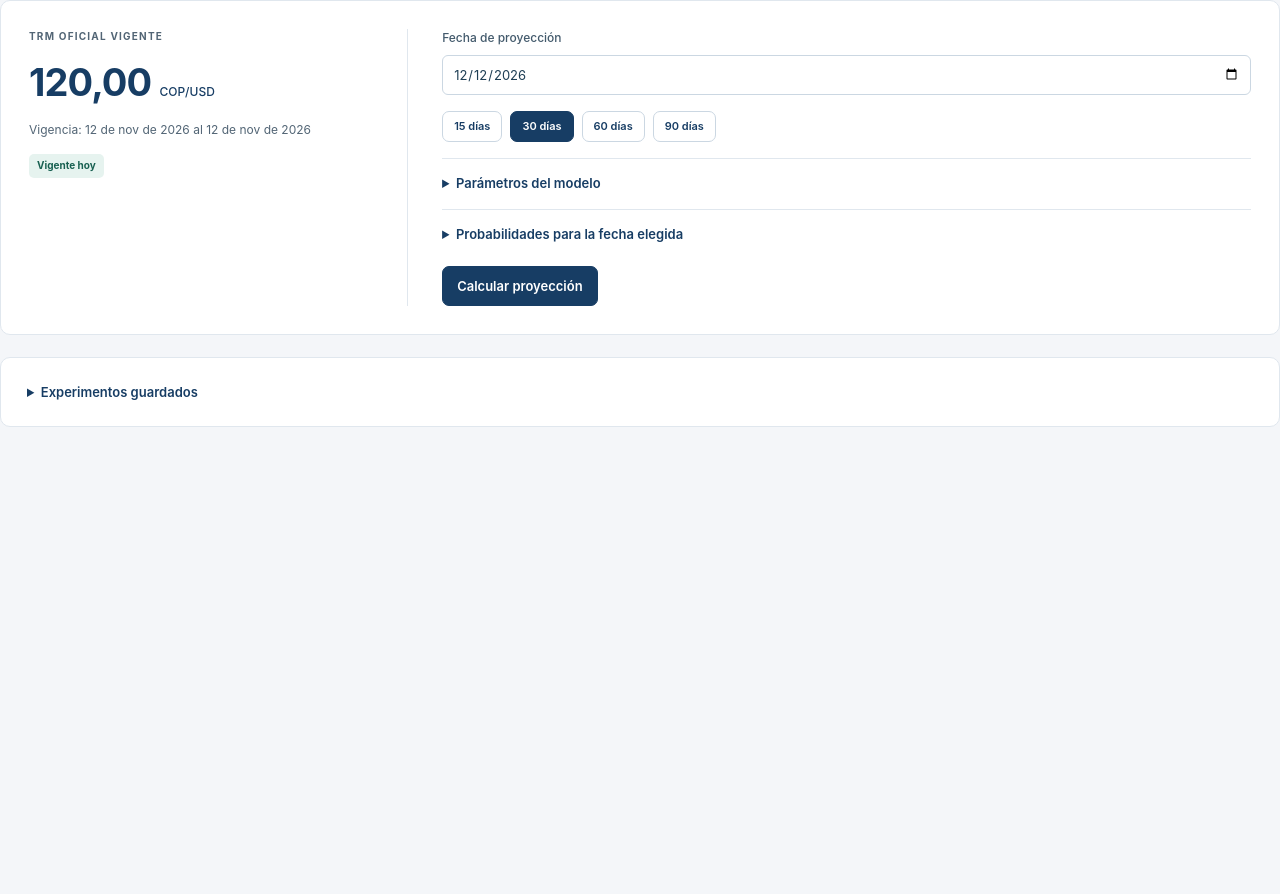
Test: mantiene el resultado guardado al cambiar la fecha o el histórico
Later steps or results of the test are not shown.
In the date field labelled "Fecha de proyección": [847, 75] box x1=442 y1=55 x2=1251 y2=95, type "2026-11-18"
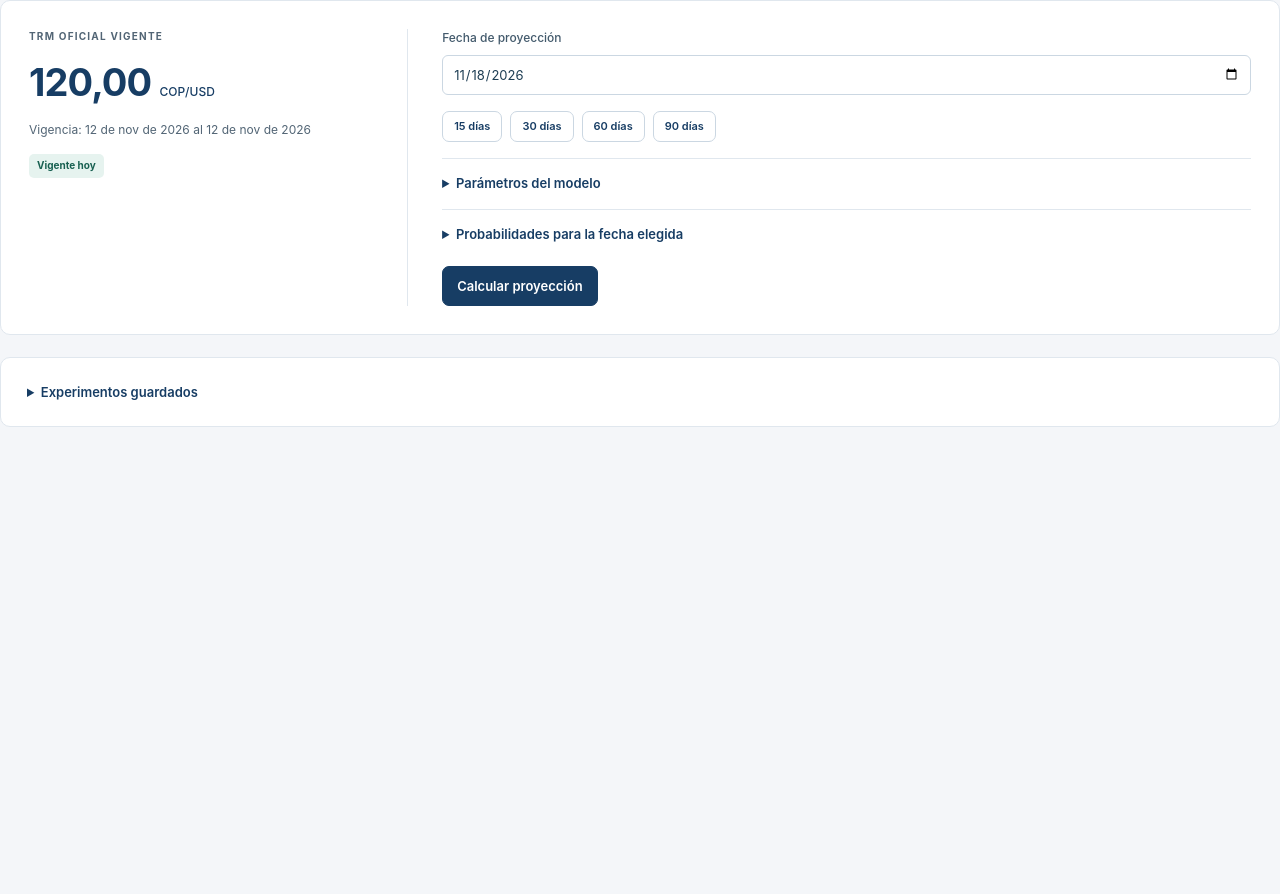
Click the button "Calcular proyección": [520, 286] box x1=442 y1=266 x2=598 y2=306
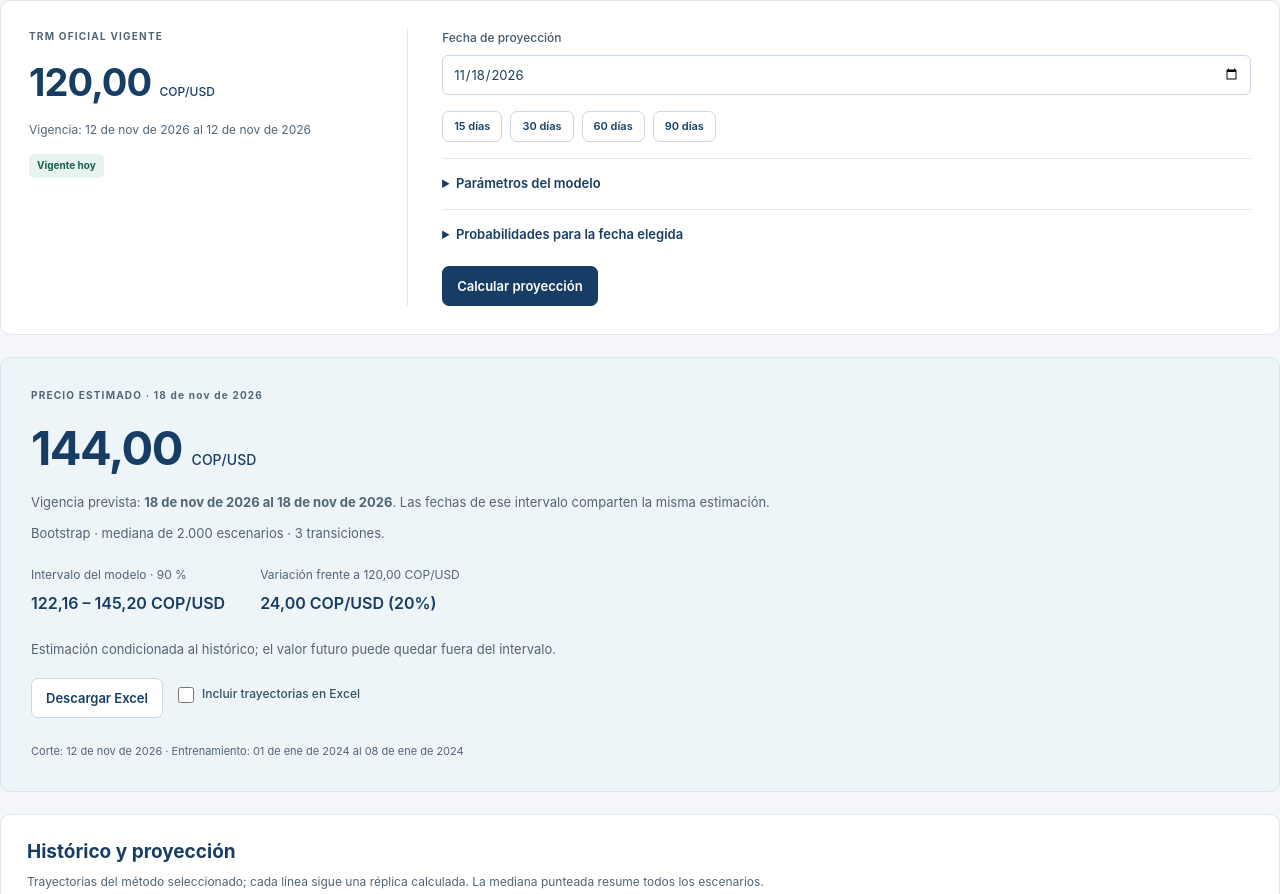
In the date field labelled "Fecha de proyección": [847, 75] box x1=442 y1=55 x2=1251 y2=95, type "2026-12-05"
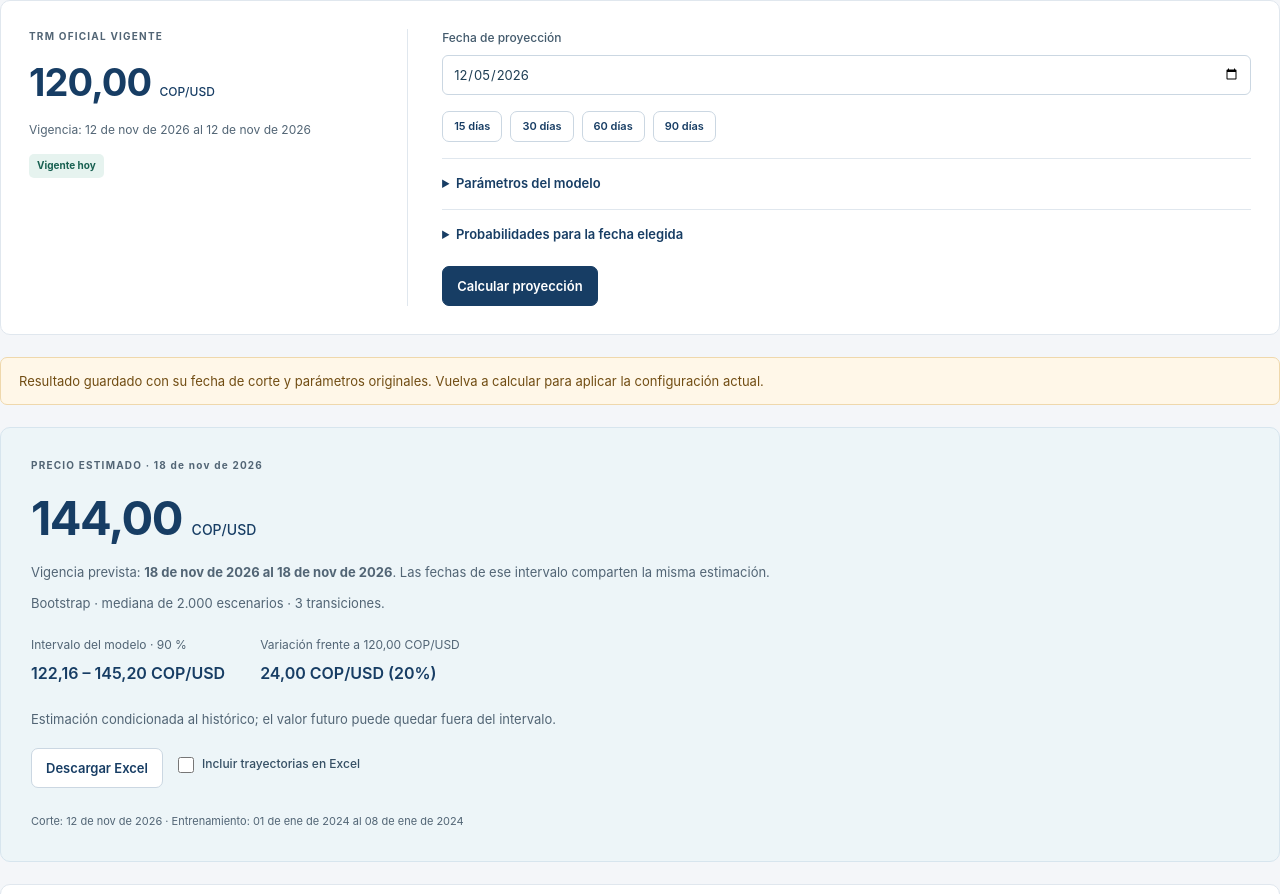
Check: the message shows "parámetros originales", box x1=19 y1=373 x2=764 y2=389
